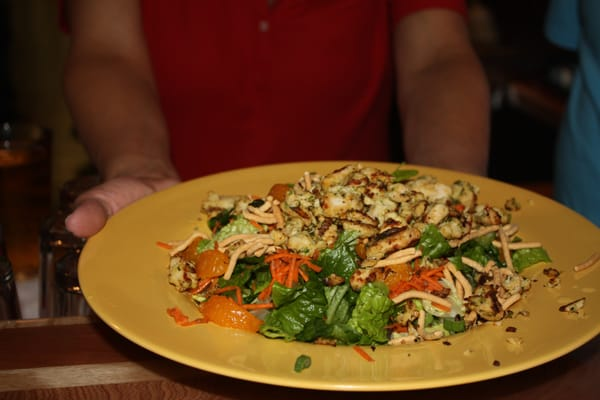curry: (8, 153, 595, 396)
sandwich: (155, 161, 594, 350)
